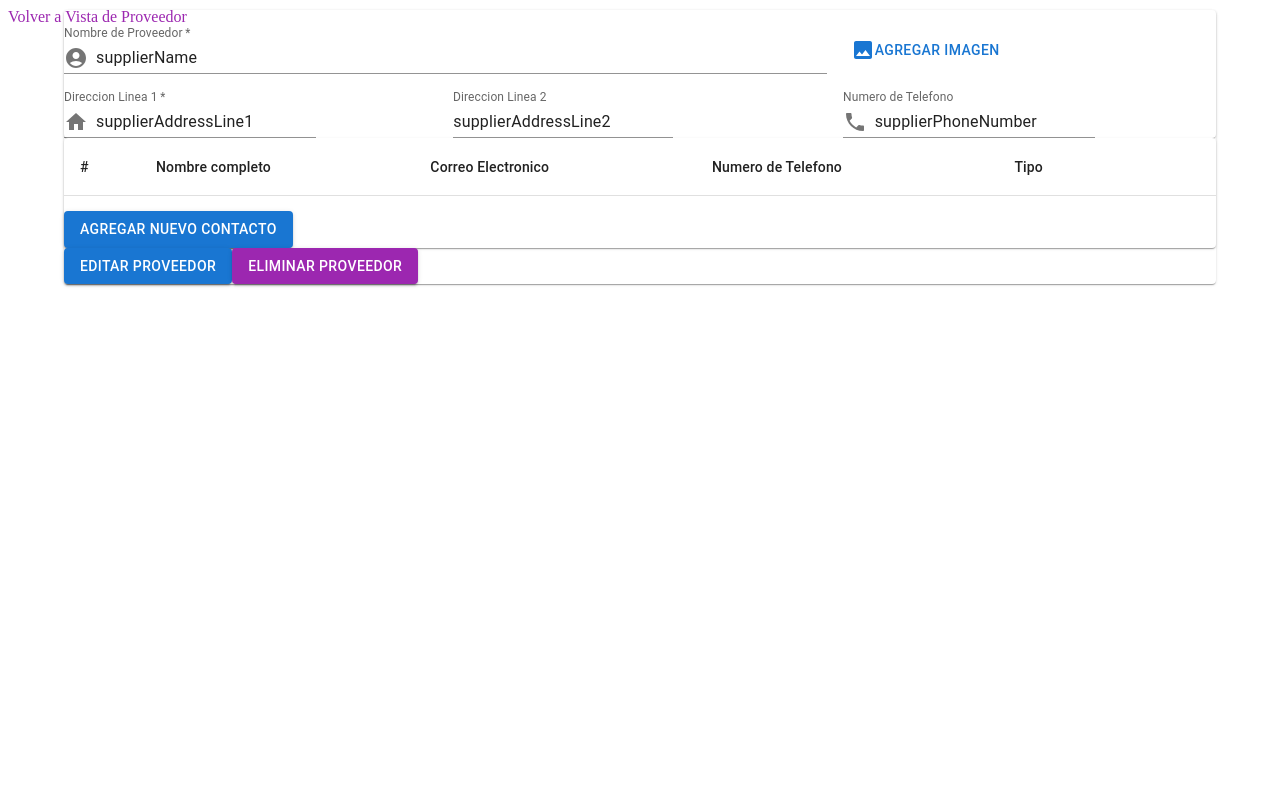
Test case: EditSupplierView › Should show error message when server fails
What coordinates should you click on to do the following:
click the button "Editar proveedor"
I would click on:
 (148, 266)
Its box is [64,248,232,284].
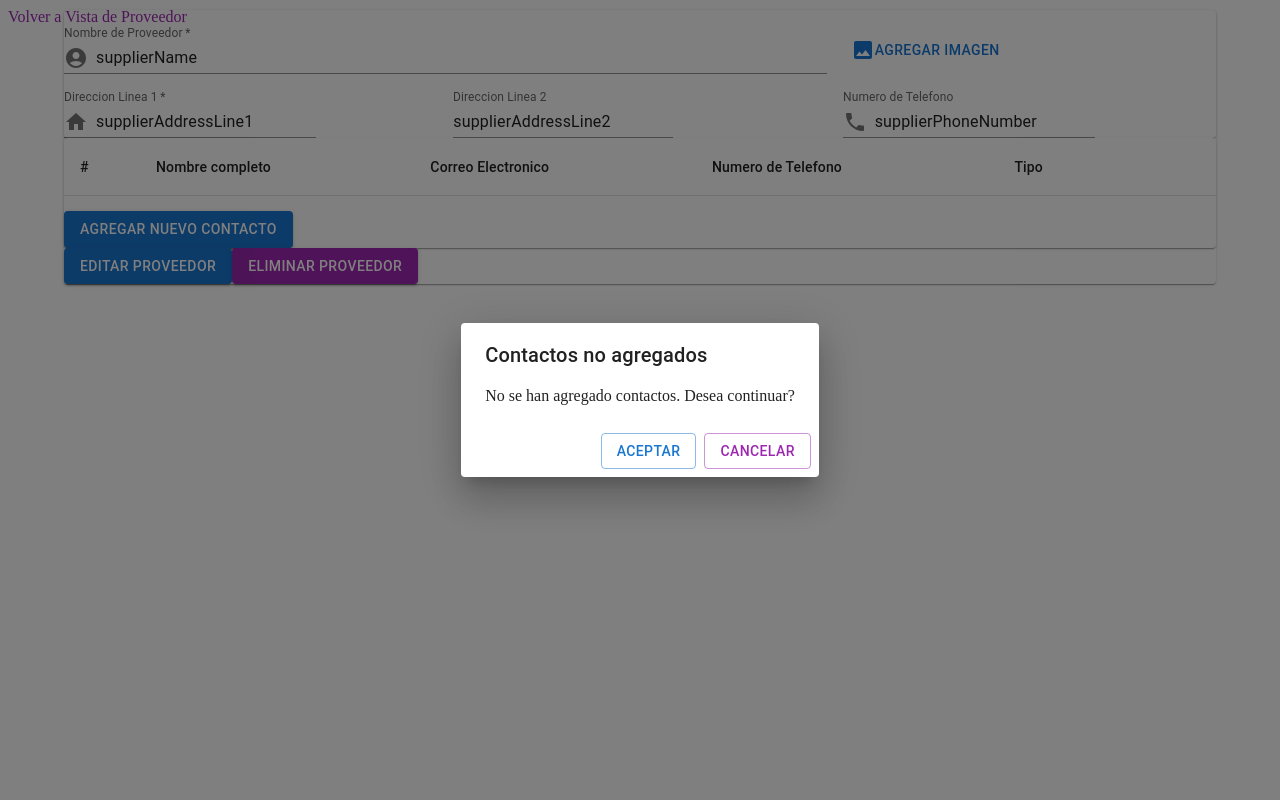
What coordinates should you click on to do the following:
click the button "Aceptar"
I would click on:
 (649, 451)
Its box is [601,433,696,469].
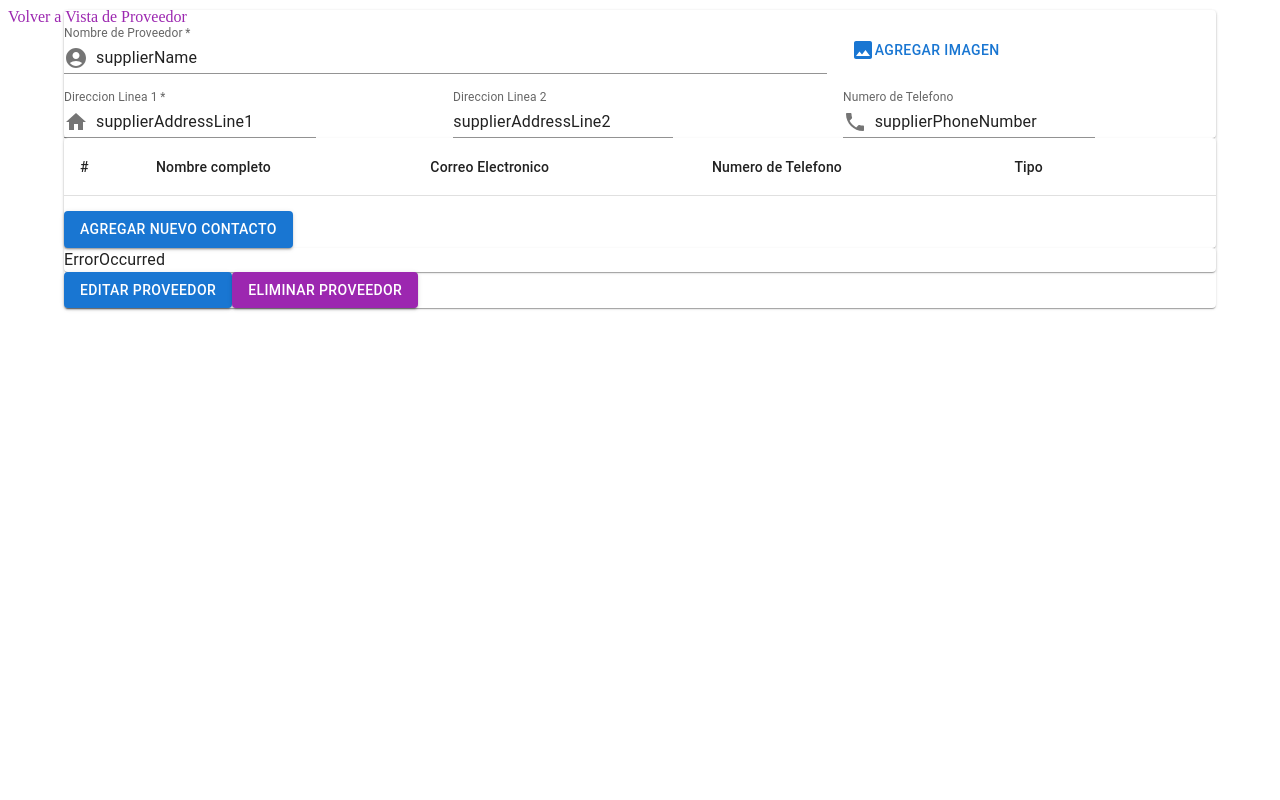
Expected: the text "ErrorOccurred" is shown, [64,250,165,269]
